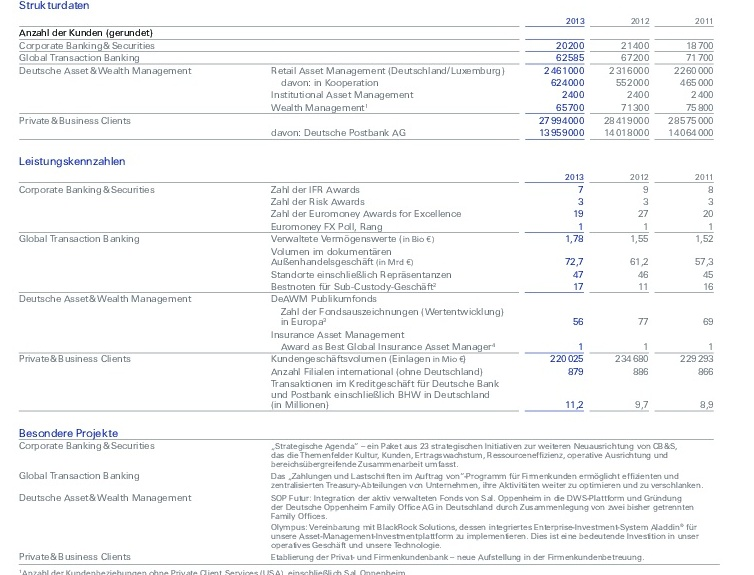table: (0, 0, 754, 575)
